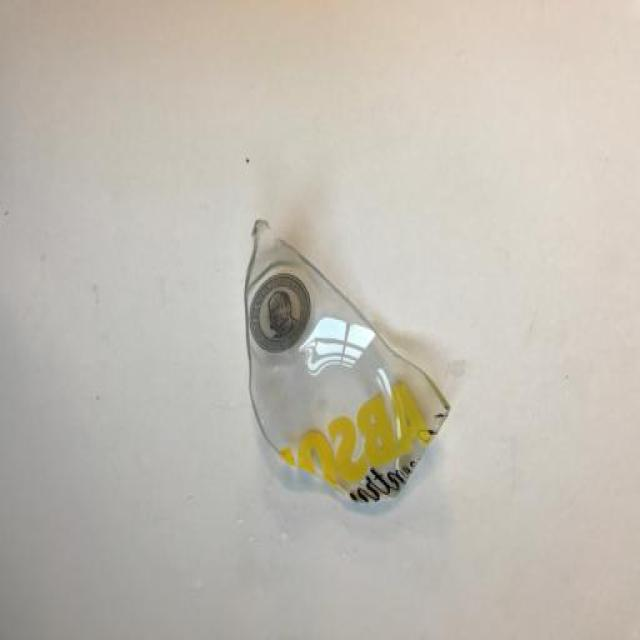glass: (206, 204, 454, 522)
